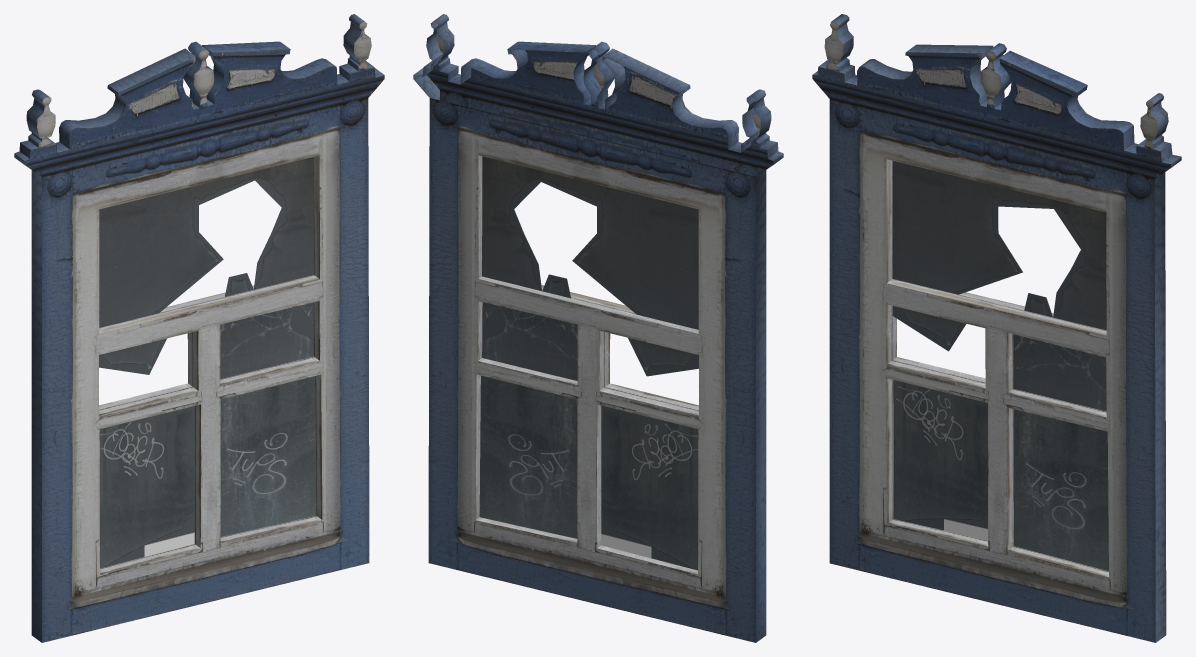
Rendered from Windows_02.fbx.
The picture shows the model from 3 angles, left to right: view 1: azimuth 30°, elevation 25°; view 2: azimuth 150°, elevation 25°; view 3: azimuth 330°, elevation 25°; orthographic projection.
Parts seen in each view (by area): view 1: Windows_02, Windows_02glass (×5); view 2: Windows_02, Windows_02glass (×5); view 3: Windows_02, Windows_02glass (×5).
Boxes of the visible parts, left/top/right/bottom form: Windows_02: left=14, top=14, right=384, bottom=642; Windows_02glass (×5): left=99, top=157, right=316, bottom=568; Windows_02: left=413, top=14, right=783, bottom=642; Windows_02glass (×5): left=479, top=156, right=698, bottom=570; Windows_02: left=812, top=14, right=1181, bottom=642; Windows_02glass (×5): left=892, top=161, right=1108, bottom=571.
Bounding box in the file's own units: 134 × 6.78 × 197.
2 materials, 2 textured.
